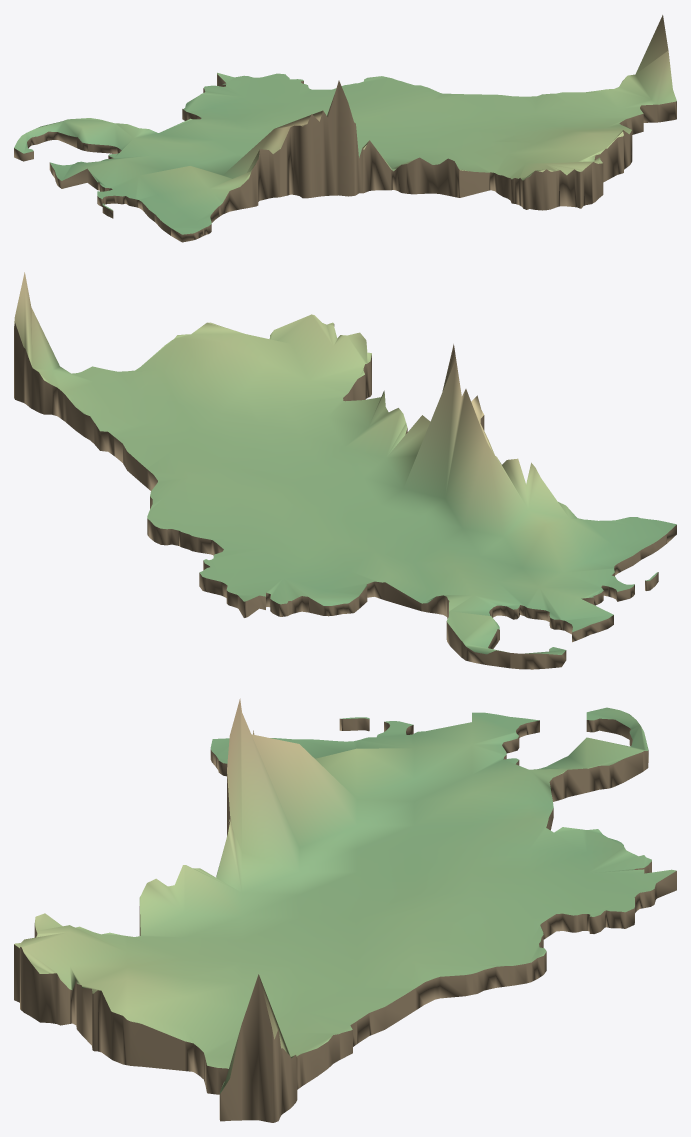
The model's file is TKM.glb.
The picture shows the model from 3 angles, top to bottom: view 1: azimuth 30°, elevation 25°; view 2: azimuth 150°, elevation 25°; view 3: azimuth 270°, elevation 25°; orthographic projection. The views are drawn at different scales.
Parts seen in each view (by area): view 1: TKM; view 2: TKM; view 3: TKM.
Part boxes in pixels (x1,y1,x2,y2): TKM: (14, 15, 676, 242); TKM: (14, 272, 676, 669); TKM: (14, 698, 676, 1122).
Bounding box in the file's own units: 1.65 × 0.338 × 1.15.
